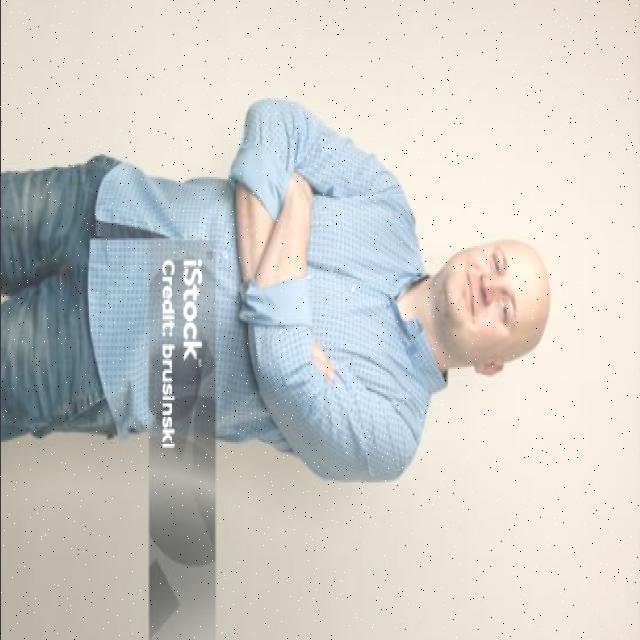face_no_mask: (440, 237, 534, 373)
